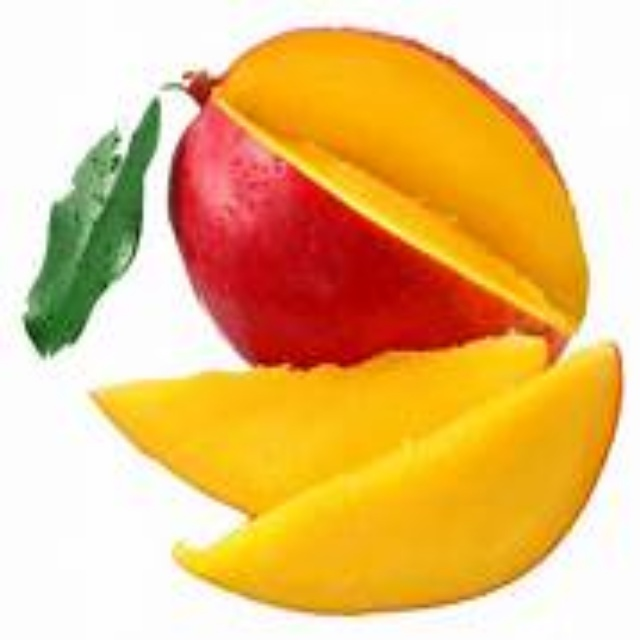mango: (93, 16, 619, 615)
